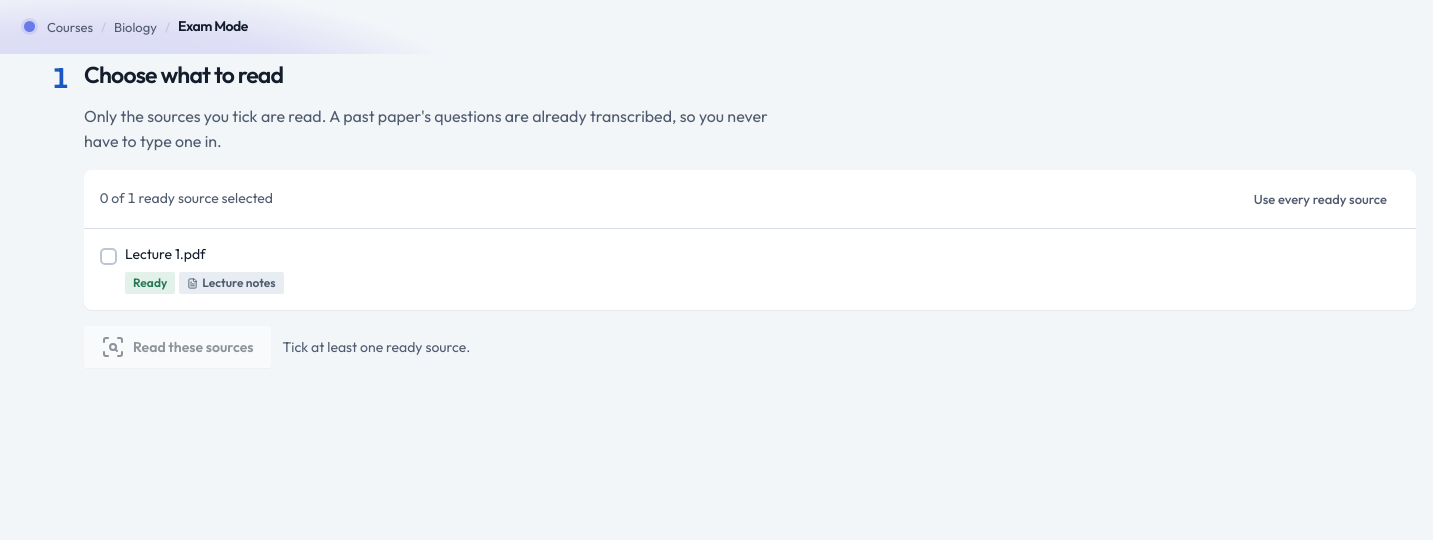
Test: ExamModePage › reports an analysis failure without claiming a result
This screenshot has width=1433, height=540.
Check: the heading "Choose what to read" is shown, box [83, 59, 283, 89]
What coordinates should you click on to do the following:
click the checkbox
I would click on:
 (108, 256)
Its box is [100, 248, 117, 265].
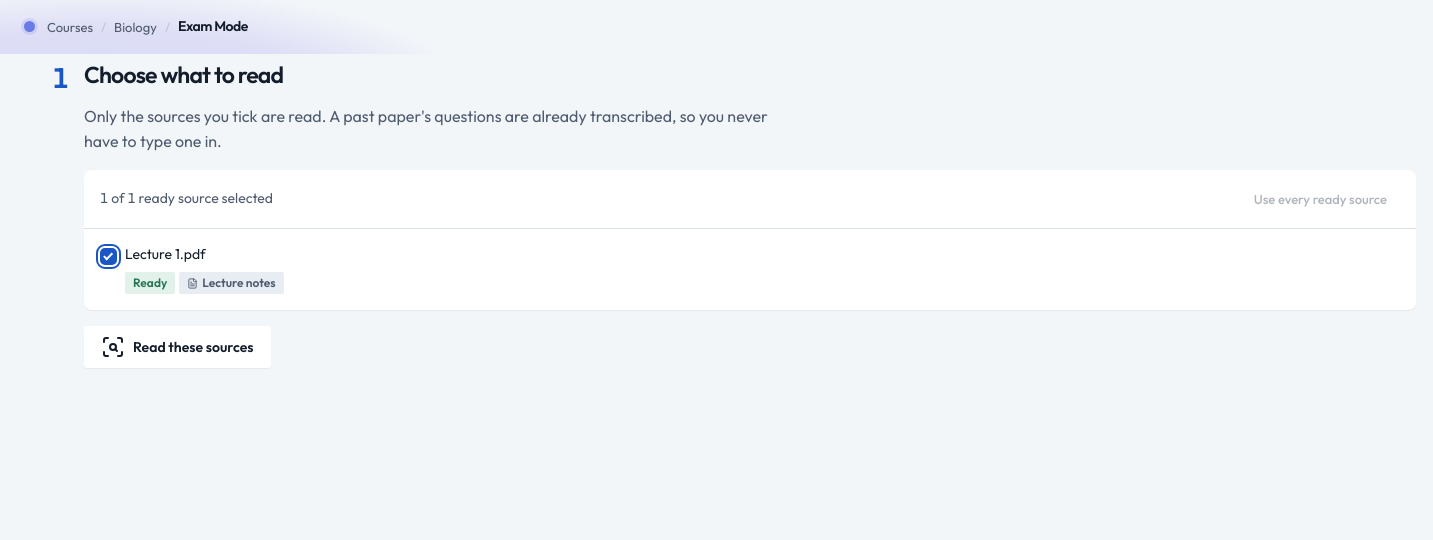
What coordinates should you click on to do the following:
click the button "Read these sources"
I would click on:
 (177, 347)
Its box is [84, 326, 270, 368].
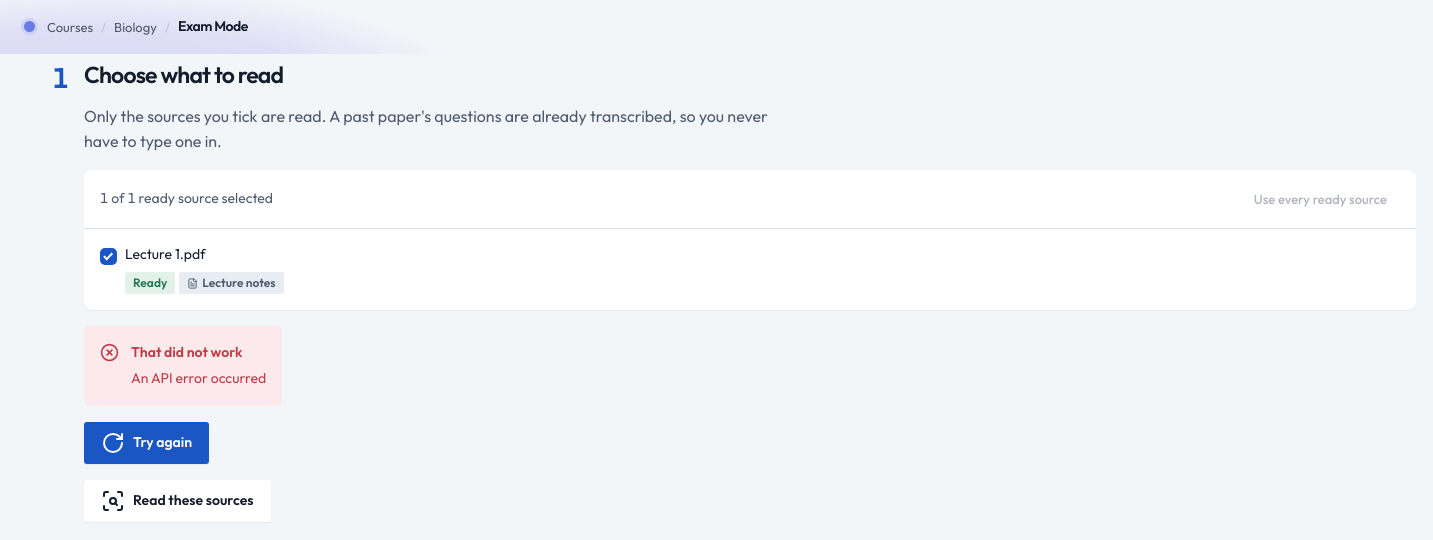
Check: the message "That did not work An API error occurred" is shown, box [84, 326, 282, 406]
